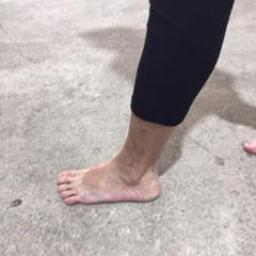Lateral View -Left Foot-: (50, 137, 173, 209)
